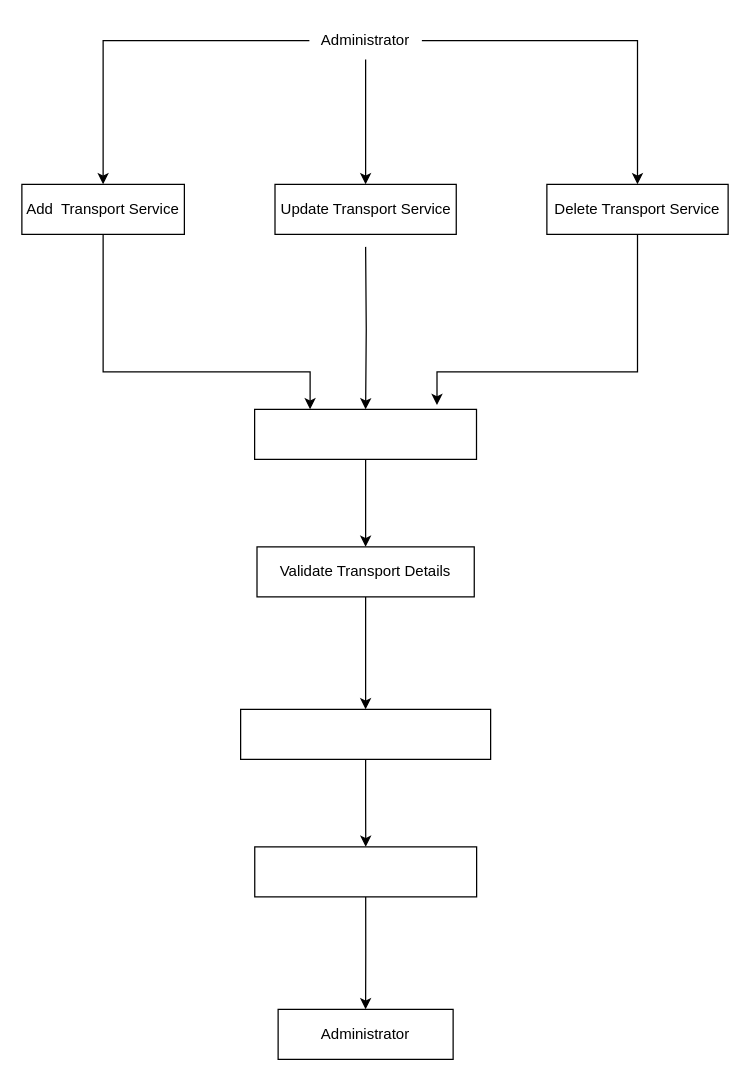
The diagram is 750 pixels wide and 1081 high, and some of its shapes have lost their labels. The shapes that lost their labels are listed below. From the top down, each one's centre as x and y in pixels, then its label:
At [364,433]: "1.2 Maintain Transport Services".
At [365,733]: "TRANSPORT_SERVICES Database".
At [365,871]: "Confirmation Information".
